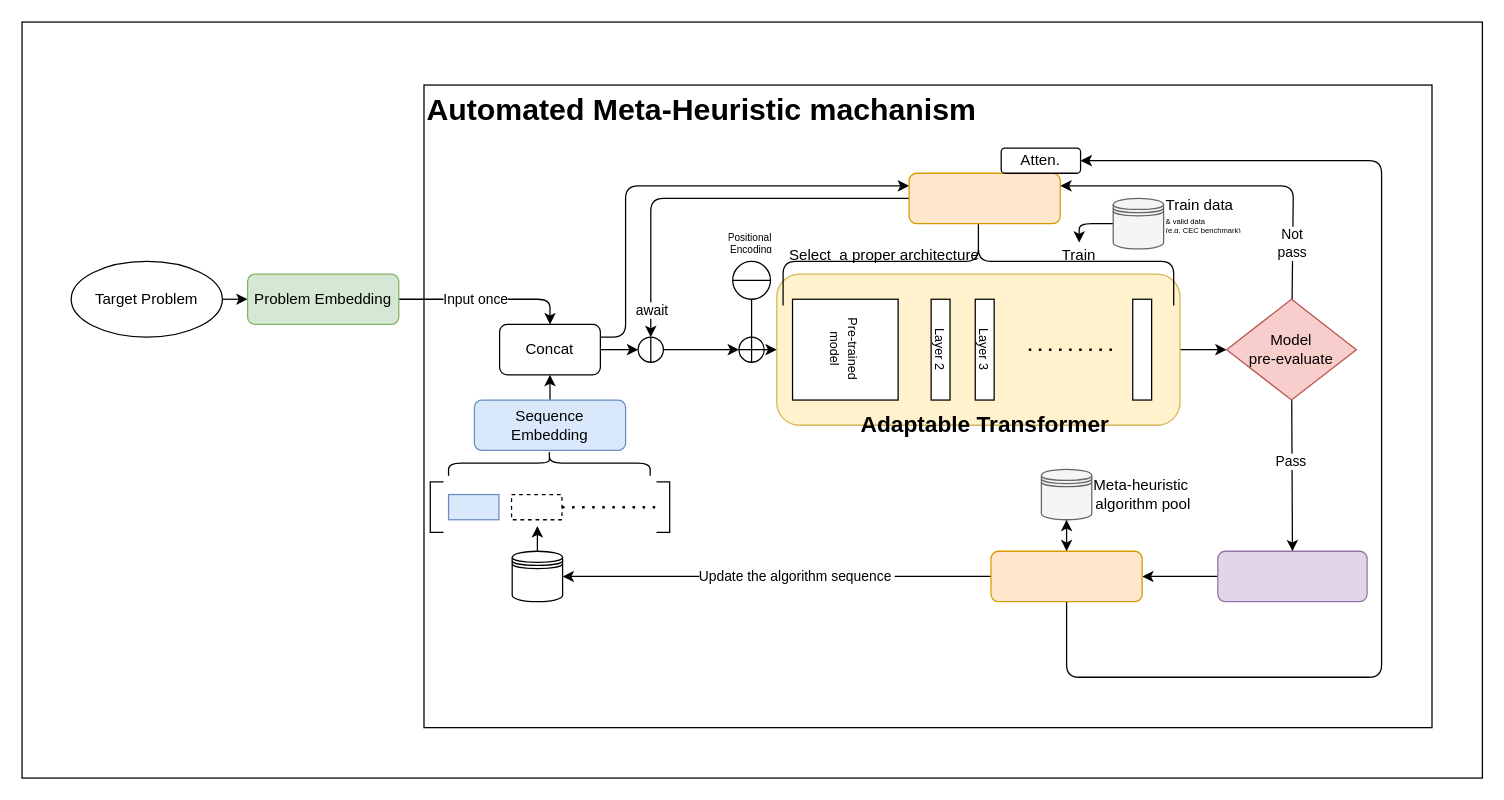
Image size: 1504x800. Some labels were removed from this diagram. The box of each missing label's shape, as (x1, y1, x2, y2) in pixels:
Evalute selected hyper-param for algorithms: (990, 550, 1142, 602)
Layer N: (1131, 298, 1152, 400)
Masked Sampling: (1217, 550, 1367, 602)
Meta-heuristic algorithm: (908, 172, 1060, 224)
